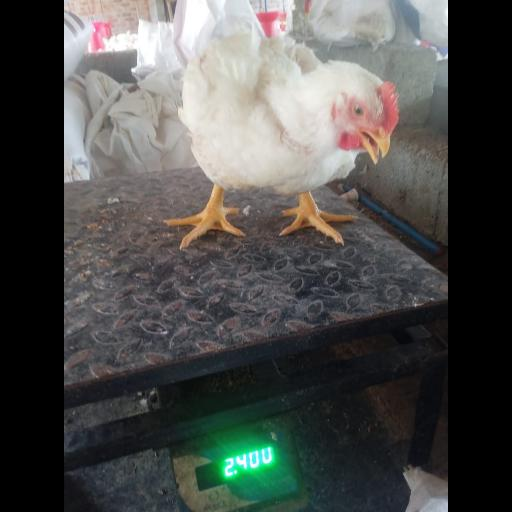chick: (165, 30, 397, 246)
